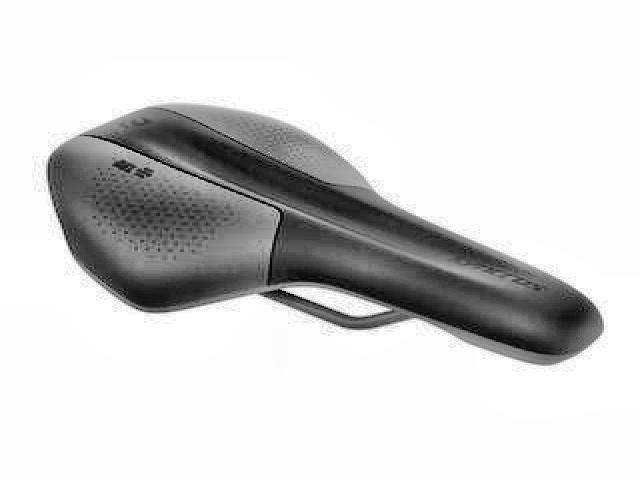saddle: (45, 99, 607, 372)
